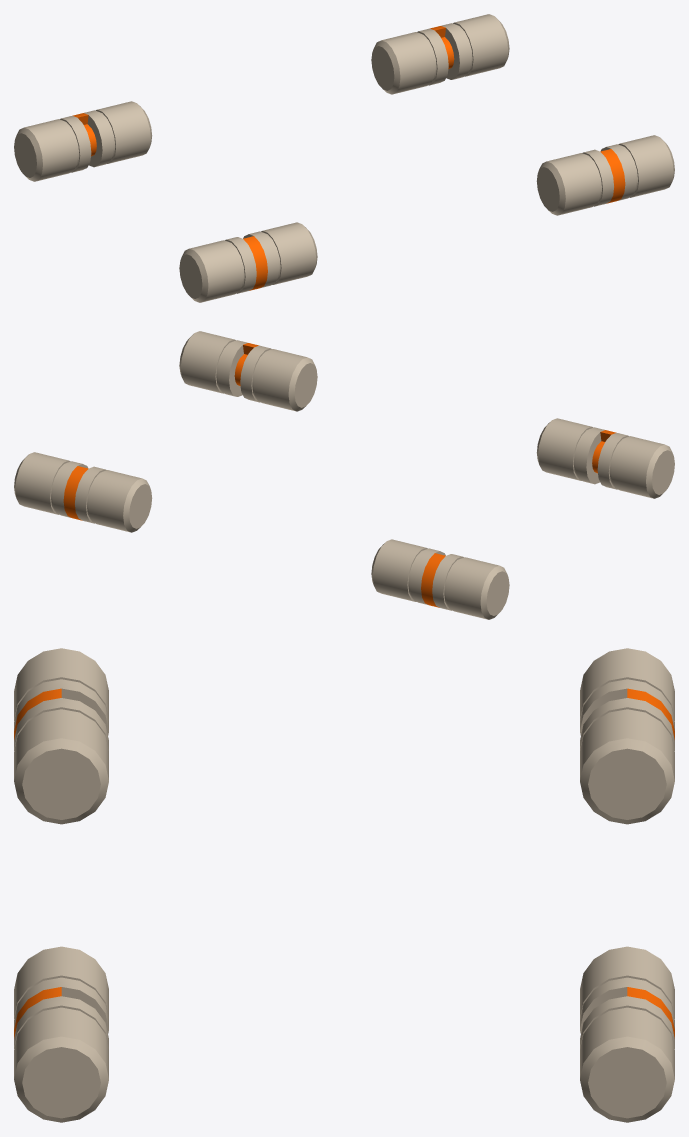
The model's file is 10_canister.FBX.
3 renders of one model, top to bottom at view 1: azimuth 30°, elevation 25°; view 2: azimuth 150°, elevation 25°; view 3: azimuth 270°, elevation 25°, orthographic. The views are drawn at different scales.
Parts seen in each view (by area): view 1: 10_canister; view 2: 10_canister; view 3: 10_canister.
Boxes of the visible parts, x1=… form: 10_canister: x1=14, y1=14, x2=674, y2=302; 10_canister: x1=14, y1=331, x2=674, y2=619; 10_canister: x1=14, y1=648, x2=674, y2=1122.
Bounding box in the file's own units: 1.87 × 0.1911 × 1.33.
